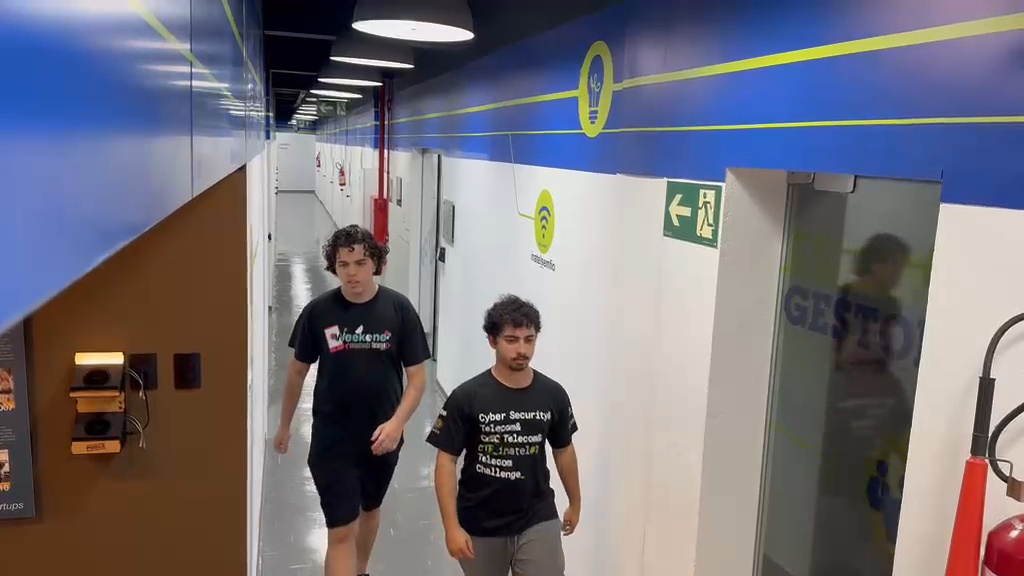person: (272, 225, 432, 573), (425, 295, 582, 573)
